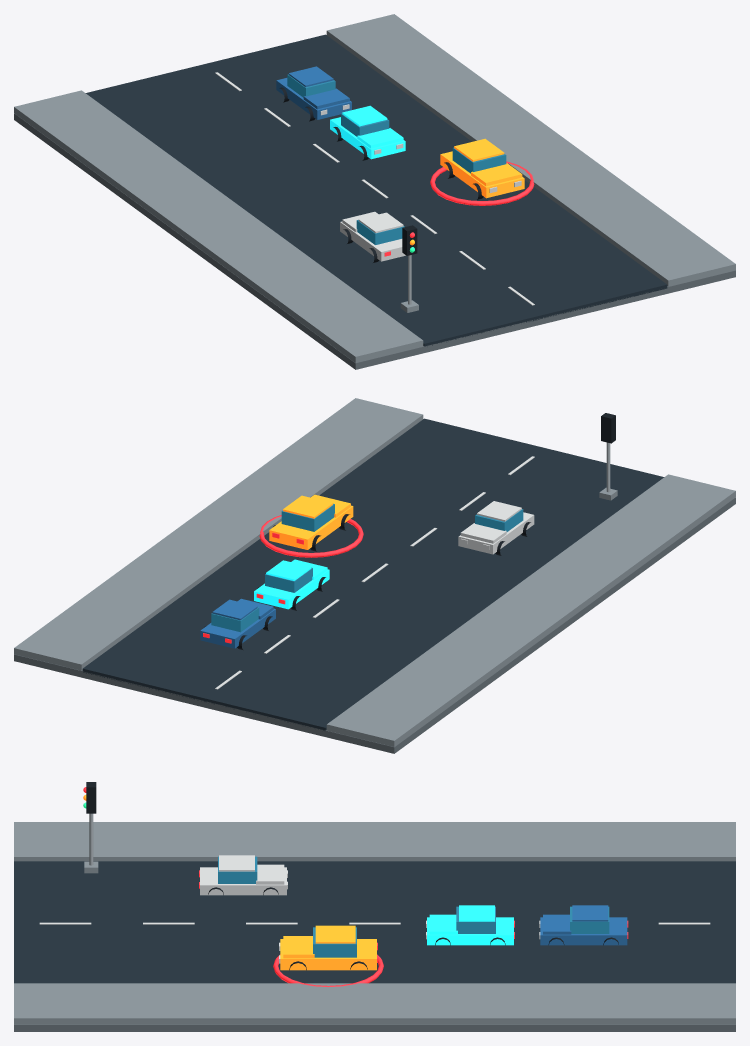
The model's file is illegal-parking-scene.glb.
The picture shows the model from 3 angles, top to bottom: view 1: azimuth 30°, elevation 25°; view 2: azimuth 150°, elevation 25°; view 3: azimuth 270°, elevation 25°; orthographic projection. The views are drawn at different scales.
Parts seen in each view (by area): view 1: road, left_walk, right_walk, ground, illegal_car_body, passing_car_body, queue_1_body, risk_ring, queue_2_body, illegal_car_hood, illegal_car_roof, illegal_car_cabin (+3 smaller); view 2: road, left_walk, right_walk, ground, illegal_car_body, queue_2_body, queue_1_body, passing_car_body, risk_ring, illegal_car_cabin, illegal_car_roof, queue_2_cabin (+2 smaller); view 3: road, right_walk, left_walk, ground, illegal_car_body, queue_2_body, queue_1_body, passing_car_body, illegal_car_roof, illegal_car_cabin, illegal_car_hood, queue_2_roof (+9 smaller).
Boxes of the visible parts, x1=… form: road: x1=85, y1=34, x2=667, y2=346; left_walk: x1=14, y1=90, x2=423, y2=362; right_walk: x1=326, y1=14, x2=735, y2=286; ground: x1=14, y1=113, x2=735, y2=369; illegal_car_body: x1=440, y1=151, x2=524, y2=198; passing_car_body: x1=340, y1=221, x2=405, y2=261; queue_1_body: x1=330, y1=117, x2=405, y2=159; risk_ring: x1=430, y1=161, x2=534, y2=205; queue_2_body: x1=276, y1=78, x2=351, y2=119; illegal_car_hood: x1=471, y1=163, x2=522, y2=186; illegal_car_roof: x1=454, y1=138, x2=504, y2=161; illegal_car_cabin: x1=452, y1=147, x2=506, y2=173; road: x1=82, y1=418, x2=664, y2=730; left_walk: x1=326, y1=474, x2=735, y2=746; right_walk: x1=14, y1=398, x2=423, y2=670; ground: x1=14, y1=497, x2=735, y2=753; illegal_car_body: x1=269, y1=505, x2=353, y2=549; queue_2_body: x1=200, y1=608, x2=275, y2=648; queue_1_body: x1=254, y1=569, x2=329, y2=609; passing_car_body: x1=458, y1=512, x2=534, y2=554; risk_ring: x1=259, y1=515, x2=363, y2=557; illegal_car_cabin: x1=281, y1=503, x2=334, y2=531; illegal_car_roof: x1=283, y1=495, x2=332, y2=518; queue_2_cabin: x1=211, y1=607, x2=259, y2=632; road: x1=14, y1=861, x2=735, y2=983; right_walk: x1=14, y1=983, x2=735, y2=1024; left_walk: x1=14, y1=822, x2=735, y2=861; ground: x1=14, y1=1024, x2=735, y2=1031; illegal_car_body: x1=280, y1=939, x2=376, y2=970; queue_2_body: x1=540, y1=917, x2=627, y2=945; queue_1_body: x1=427, y1=917, x2=513, y2=945; passing_car_body: x1=200, y1=867, x2=286, y2=895; illegal_car_roof: x1=315, y1=925, x2=355, y2=943; illegal_car_cabin: x1=313, y1=927, x2=356, y2=957; illegal_car_hood: x1=283, y1=936, x2=314, y2=958; queue_2_roof: x1=572, y1=905, x2=608, y2=921.
Bounding box in the file's own units: 18 × 4.19 × 28.
